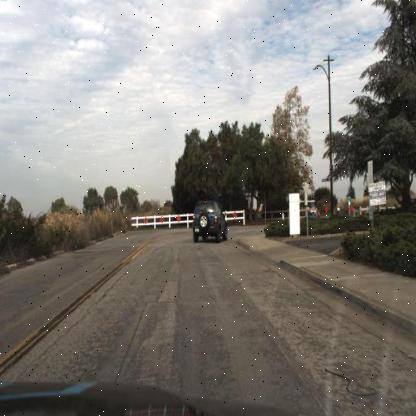car: (192, 199, 226, 243)
